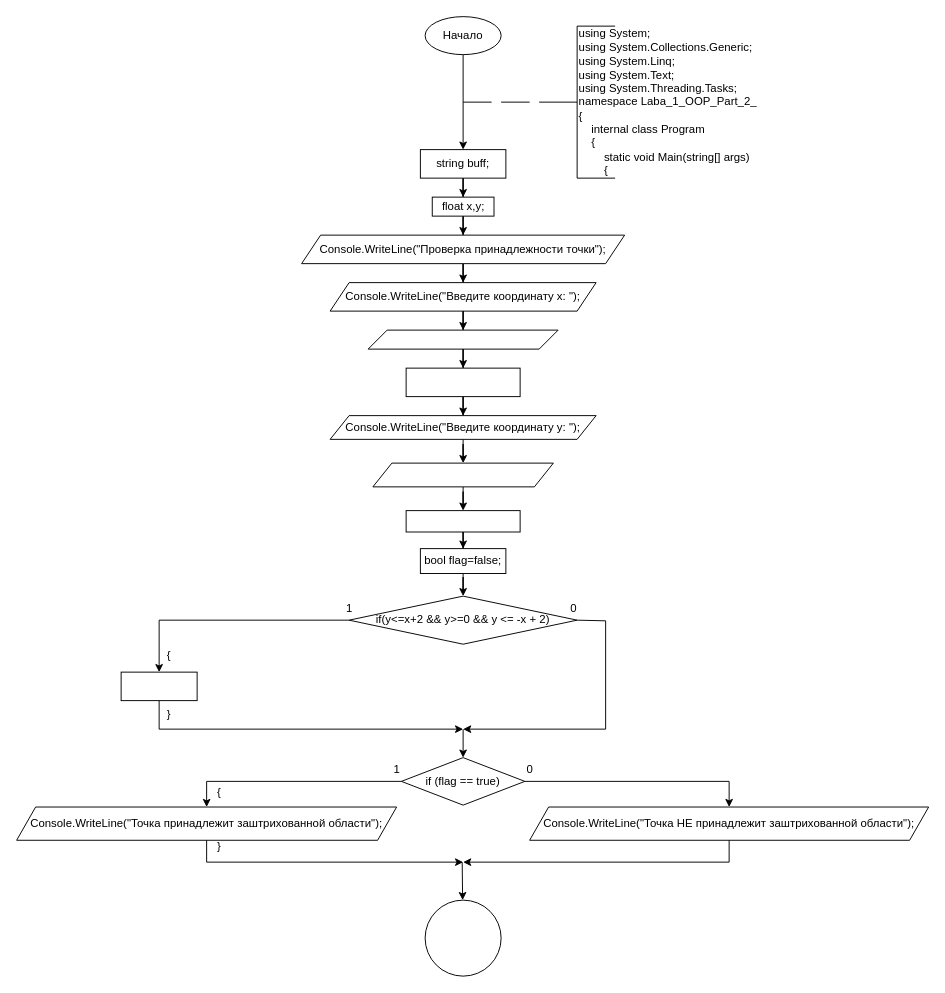
The diagram is 945 pixels wide and 993 high, and some of its shapes have lost their labels. The shapes that lost their labels are listed below. From the top down, each one's centre as x and y in pixels, then its label:
At pixel 462 339: "buff= Console.ReadLine();".
At pixel 462 382: "x=float.Parse(buff);".
At pixel 462 474: "buff = Console.ReadLine();".
At pixel 462 521: "y = float.Parse(buff);".
At pixel 158 686: "flag = true;".
At pixel 462 937: "} } } конец".
